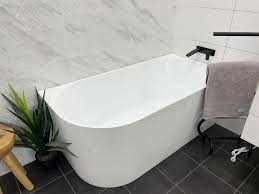bathub: (24, 53, 242, 187)
